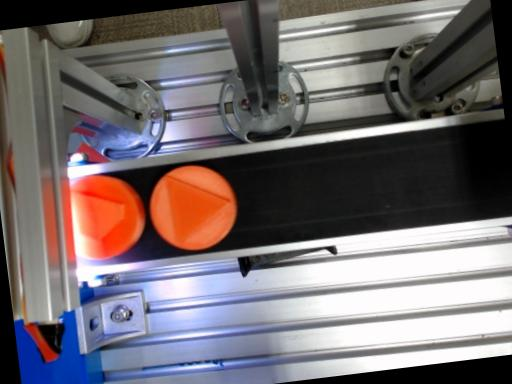Orange_Waper: (151, 166, 237, 249), (72, 175, 145, 260)
